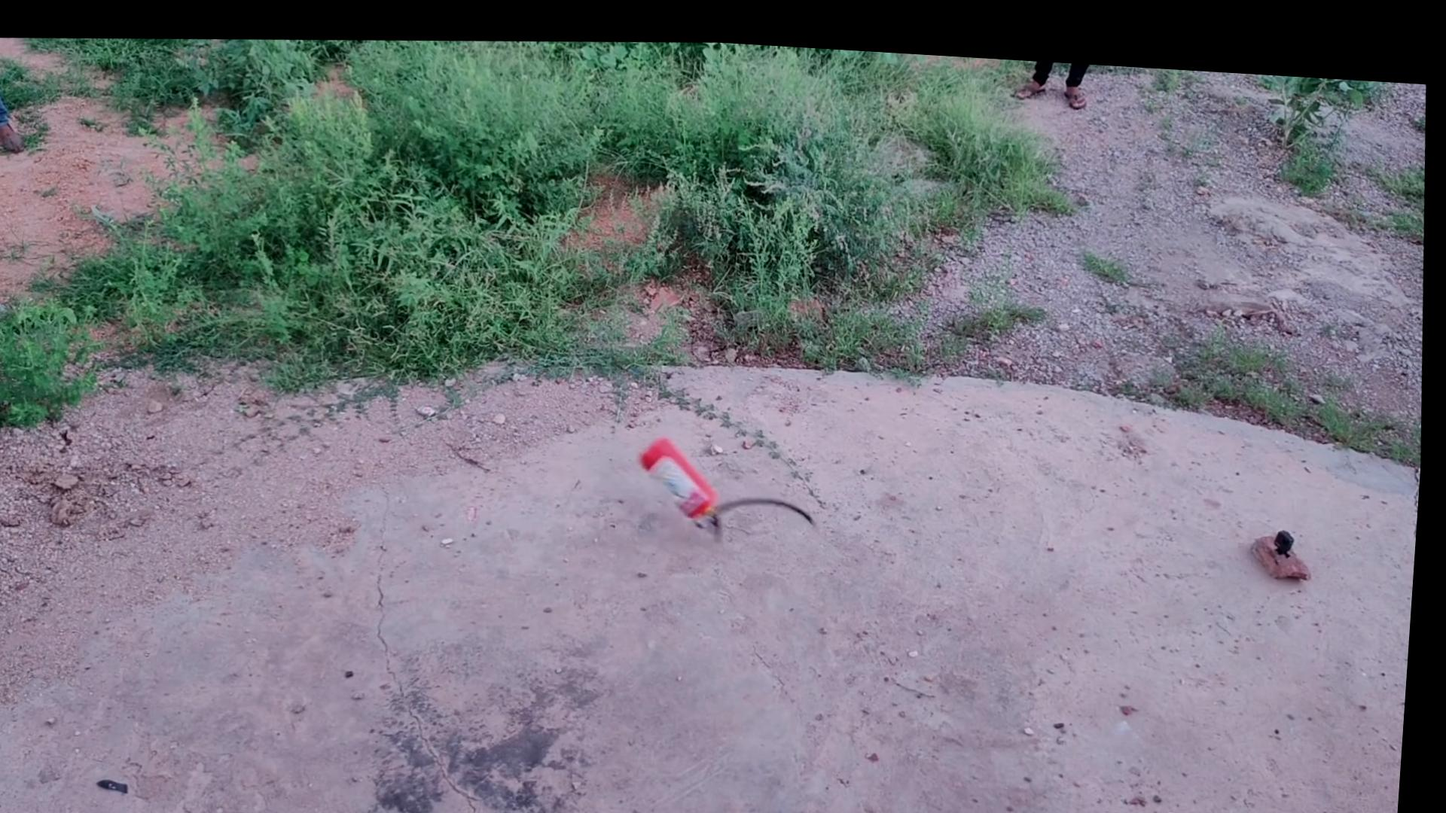FireExtinguisher: (636, 411, 758, 534)
